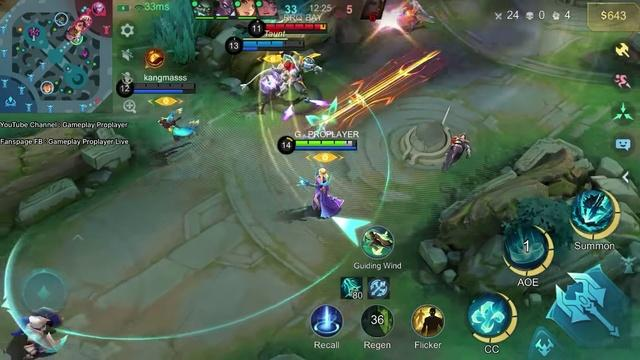Adc_Aliado: (75, 19, 86, 32)
Arbusto: (151, 0, 206, 63)
Esbirro_Aliado: (6, 307, 65, 359)
Exp_Aliado: (55, 11, 68, 27)
Exp_Enemigo: (91, 3, 106, 15)
Furia_Gattotkaka: (265, 31, 328, 34)
Gattotkaka: (274, 51, 321, 98)
HP_Aliado: (132, 84, 196, 90), (243, 40, 306, 46)
HP_Enemigo: (266, 23, 327, 31)
HP_Heroe_Principal: (293, 140, 358, 145)
Hechizo_Batalla: (411, 304, 444, 337)
Jungla_Aliado: (40, 82, 54, 94)
Karry: (258, 68, 280, 113)
Lesly: (397, 0, 426, 31)
Mana: (294, 147, 357, 151), (243, 46, 304, 50), (133, 90, 196, 93)
Matilda: (158, 109, 196, 140)
Mid_Aliado: (70, 35, 83, 45)
Mid_Enemigo: (80, 15, 92, 28)
Minimapa: (0, 0, 114, 116)
Roamer_Aliado: (64, 31, 72, 41)
Roamer_Enemigo: (71, 26, 80, 36)
Skill1: (467, 293, 517, 343)
Skill3: (570, 190, 620, 239)
Torre_destruida: (398, 120, 452, 167)
Vexana: (311, 168, 343, 218)
